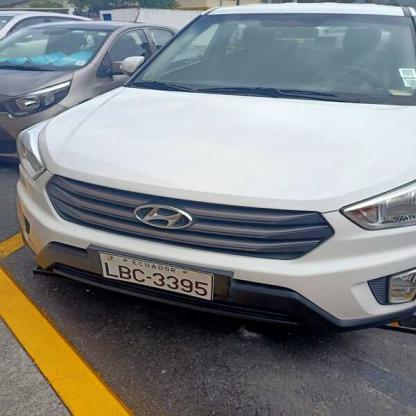Placa: (92, 246, 215, 310)
